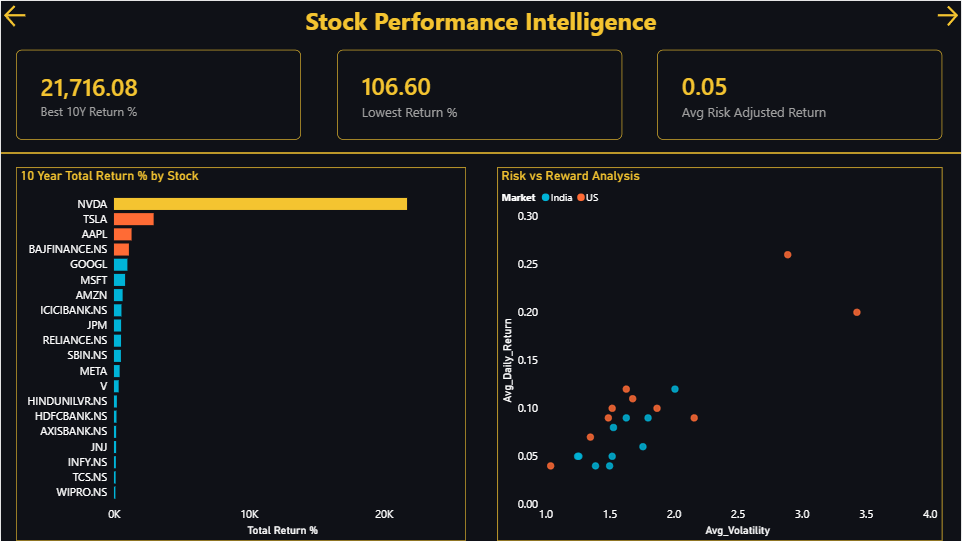

Layout of this report page (visuals, bound fields, positions):
{"tool":"powerbi","page":{"name":"Stock Performance Intelligence","canvas":[1280,720],"ordinal":1},"visuals":[{"type":"textbox","box":[0,0,1280,60],"z":0},{"type":"cardVisual","fields":{"Data":["_Measures.Best Return %"]},"box":[20,65,380,120],"z":1000},{"type":"cardVisual","fields":{"Data":["_Measures.Worst Performer"]},"box":[447.5,65,380,120],"z":2000},{"type":"cardVisual","fields":{"Data":["_Measures.Avg Risk Adjusted Return"]},"box":[875,65,380,120],"z":3000},{"type":"clusteredBarChart","title":"10 Year Total Return % by Stock","fields":{"Category":["stock_summary.Ticker"],"Y":["Sum(stock_summary.Return_Pct)"]},"box":[20,221.7,600,498.3],"z":4000},{"type":"shape","box":[0,196.7,1280,12],"z":5000},{"type":"scatterChart","title":"Risk vs Reward Analysis","fields":{"X":["stock_summary.Avg_Volatility"],"Y":["stock_summary.Avg_Daily_Return"],"Series":["stock_summary.Market"]},"box":[661.7,221.7,593.3,498.3],"z":6000},{"type":"actionButton","box":[0,0,38.3,40],"z":6001},{"type":"actionButton","box":[1243.3,0,36.7,40],"z":6002}]}

Visuals, with their boxes in screenshot pixels (x1, y1, x2, y2), scaled from the page's 1280x720 canvas onto the 962x541 screenshot:
textbox: [x1=0, y1=0, x2=961, y2=45]
cardVisual - _Measures.Best Return %: [x1=15, y1=49, x2=301, y2=139]
cardVisual - _Measures.Worst Performer: [x1=336, y1=49, x2=622, y2=139]
cardVisual - _Measures.Avg Risk Adjusted Return: [x1=658, y1=49, x2=943, y2=139]
"10 Year Total Return % by Stock" clusteredBarChart: [x1=15, y1=167, x2=466, y2=540]
shape: [x1=0, y1=148, x2=961, y2=157]
"Risk vs Reward Analysis" scatterChart: [x1=497, y1=167, x2=943, y2=540]
actionButton: [x1=0, y1=0, x2=29, y2=30]
actionButton: [x1=934, y1=0, x2=961, y2=30]
